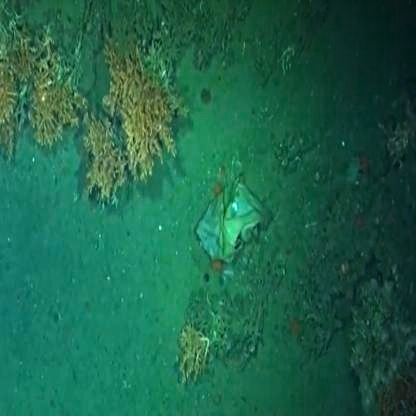misc: (181, 173, 280, 288)
